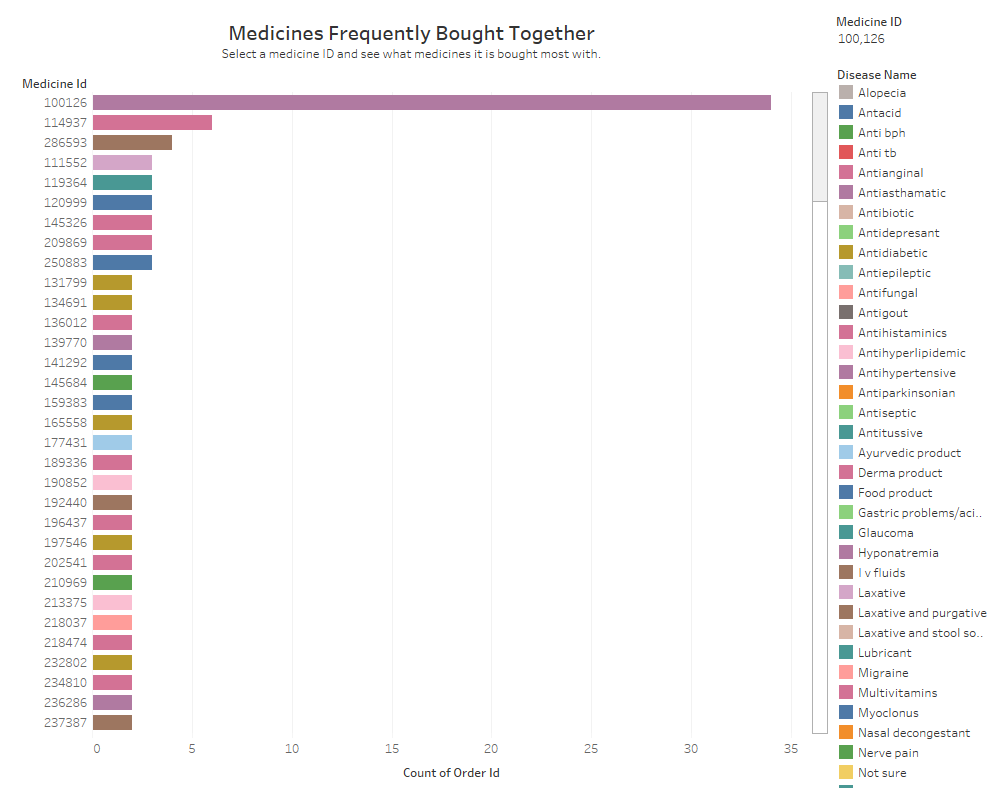

This screenshot's page, from the dashboard's own definition file:
{"tool":"tableau","page":{"name":"Dashboard 6","canvas":[1000,800],"ordinal":4},"visuals":[{"type":"worksheet","title":"Frequently Bought Together","mark":"Automatic","rows":["medicine_id"],"cols":["order_id"],"box":[8,8,824,784]},{"type":"parameter","param":"[Parameters].[Parameter 1]","box":[832,8,160,52]},{"type":"legend","title":"Frequently Bought Together","param":"[federated.1pqh77x0vrohaq1gon2cm03p0s9q].[none:disease_name:nk]","box":[832,60,160,732]}]}

Visuals, with their boxes in screenshot pixels (x1, y1, x2, y2), scaled from the page's 1000x800 canvas onto the 1000x800 screenshot:
"Frequently Bought Together" worksheet: <bbox>8, 8, 832, 792</bbox>
parameter: <bbox>832, 8, 992, 60</bbox>
"Frequently Bought Together" legend: <bbox>832, 60, 992, 792</bbox>
